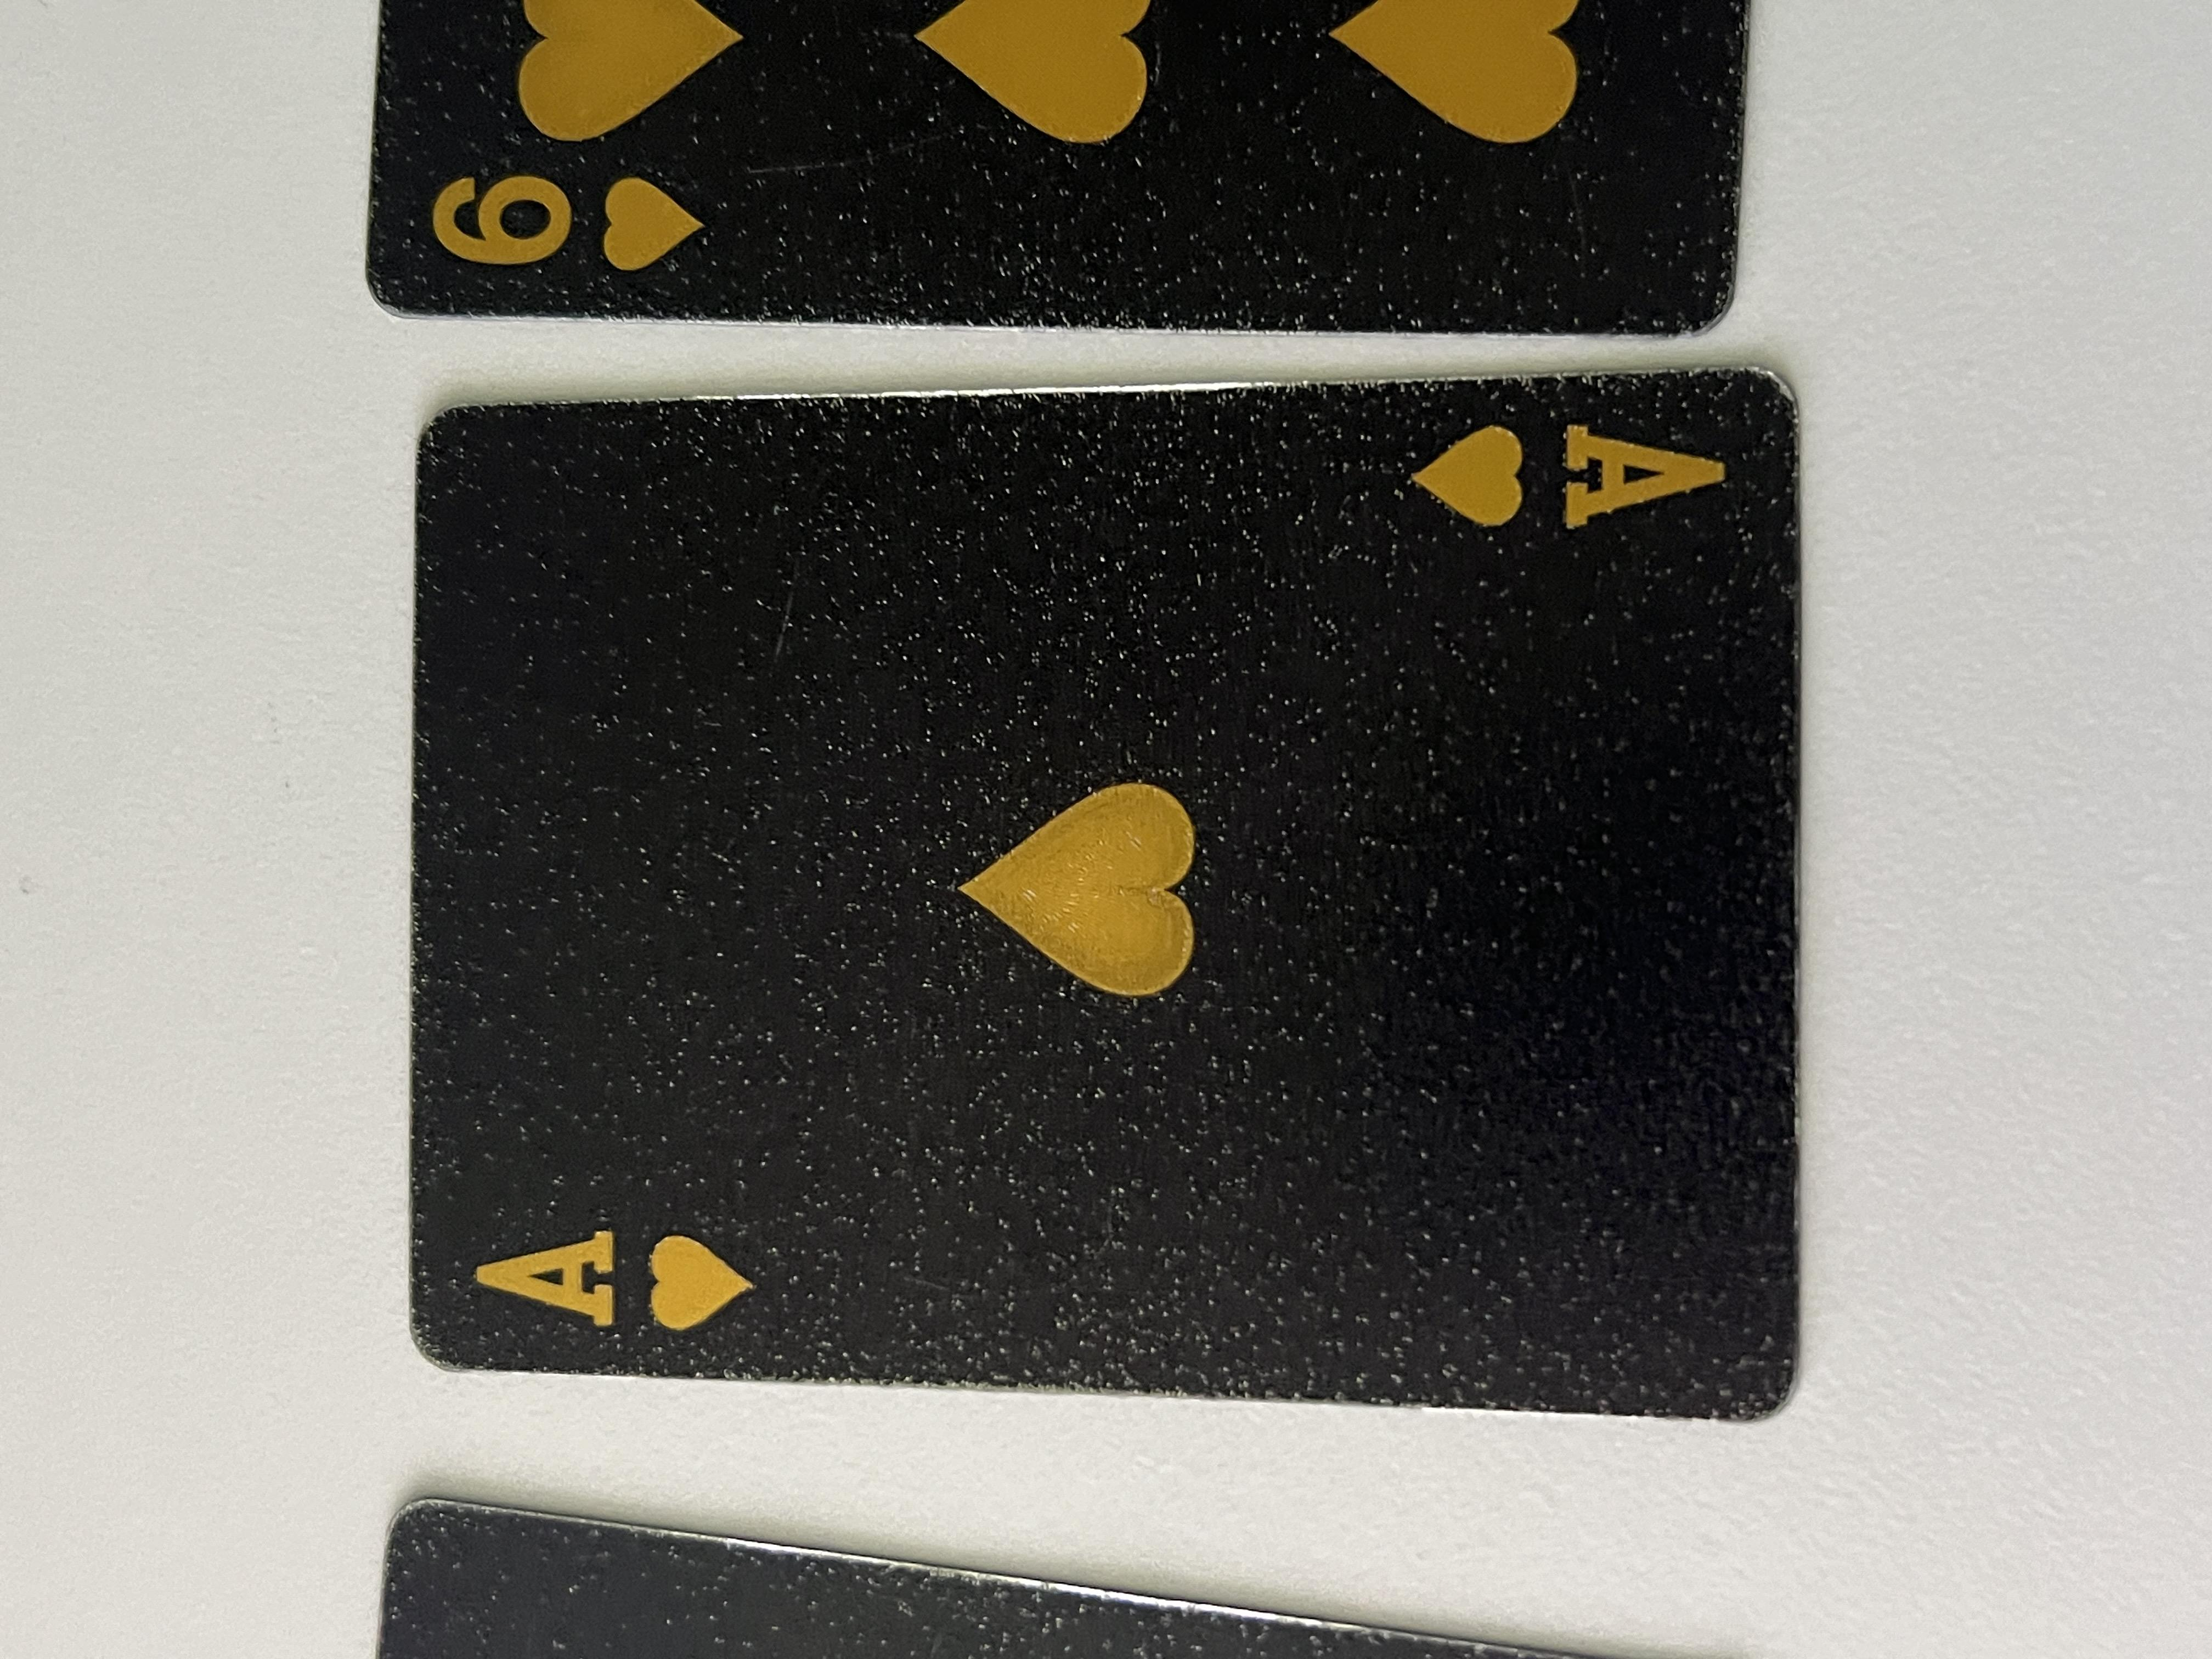6H: (1818, 289, 2012, 537)
AH: (1467, 1046, 1672, 1324), (416, 338, 596, 579)
